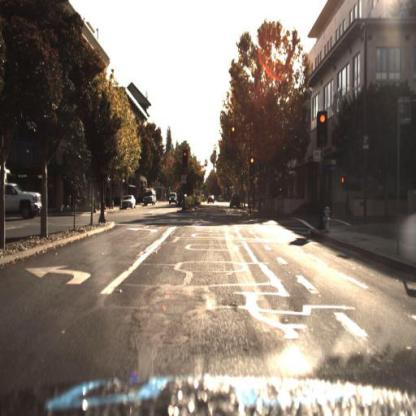car: (2, 162, 44, 228), (119, 197, 136, 212), (142, 188, 156, 204), (231, 190, 242, 210), (168, 190, 177, 205)
trafficLight: (228, 124, 235, 140)
trafficLight-Red: (318, 110, 328, 140)
trafficLight-RedLeft: (182, 148, 189, 164)
trafficLight-Yellow: (250, 151, 255, 170)
